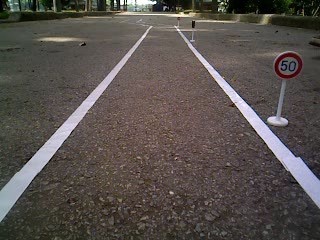limit 50: (273, 50, 304, 80)
